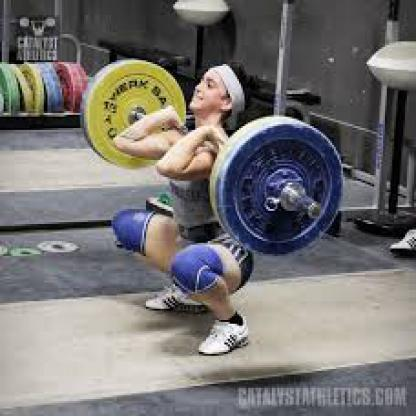Barbell: (307, 202, 327, 222)
